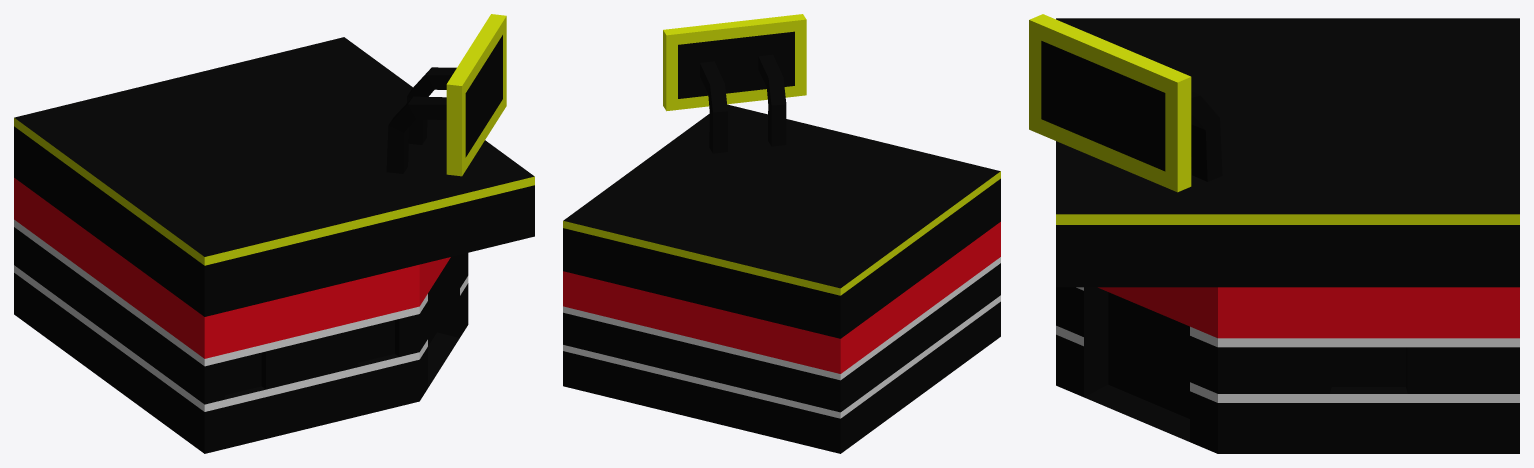
The model's file is loja_13.fbx.
3 renders of one model, left to right at view 1: azimuth 30°, elevation 25°; view 2: azimuth 150°, elevation 25°; view 3: azimuth 270°, elevation 25°, orthographic. The views are drawn at different scales.
Parts seen in each view (by area): view 1: Cube.001; view 2: Cube.001; view 3: Cube.001.
Boxes of the visible parts, x1=… form: Cube.001: x1=14, y1=14, x2=534, y2=453; Cube.001: x1=563, y1=14, x2=1000, y2=453; Cube.001: x1=1029, y1=14, x2=1519, y2=453.
Bounding box in the file's own units: 1735 × 1488 × 1721.
